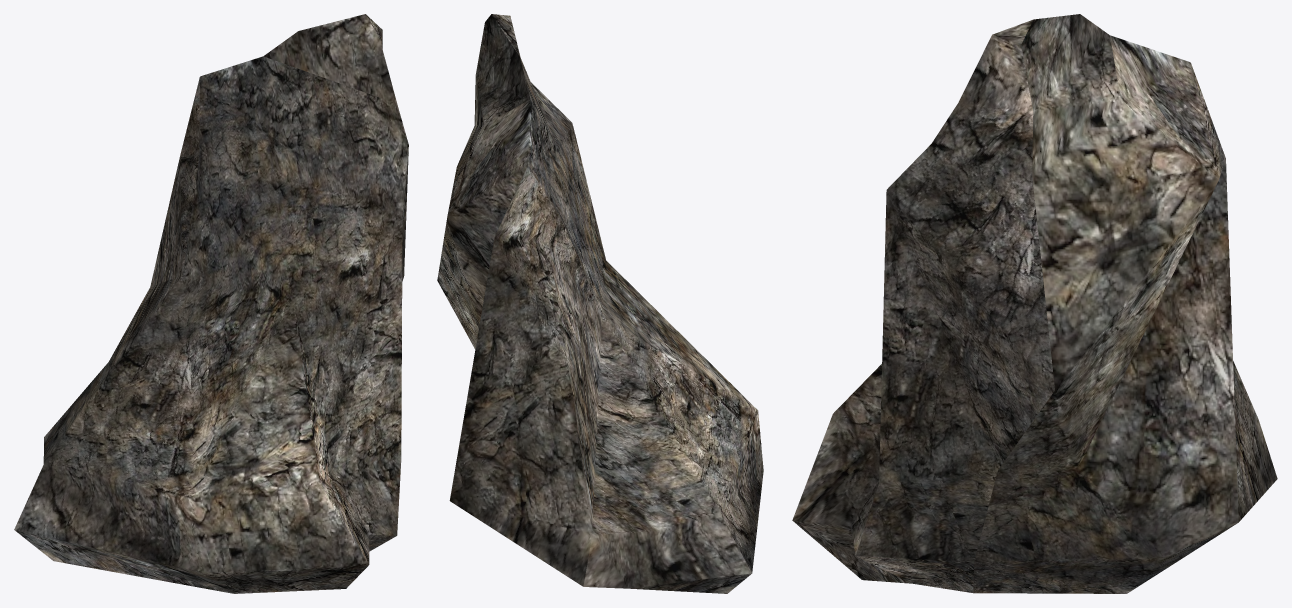
The model's file is pir_m_prp_cav_rock_d.fbx.
3 views of the same model, side by side, from view 1: azimuth 30°, elevation 25°; view 2: azimuth 150°, elevation 25°; view 3: azimuth 270°, elevation 25° (orthographic). The views are drawn at different scales.
Parts seen in each view (by area): view 1: lod_high; view 2: lod_high; view 3: lod_high.
Part boxes in pixels (x1,y1,x2,y2): lod_high: (14, 14, 408, 593); lod_high: (437, 14, 763, 593); lod_high: (792, 14, 1277, 593).
Size of the model in its own units: 3113 by 4204 by 2991.
Materials: 1 (1 with a texture image).
